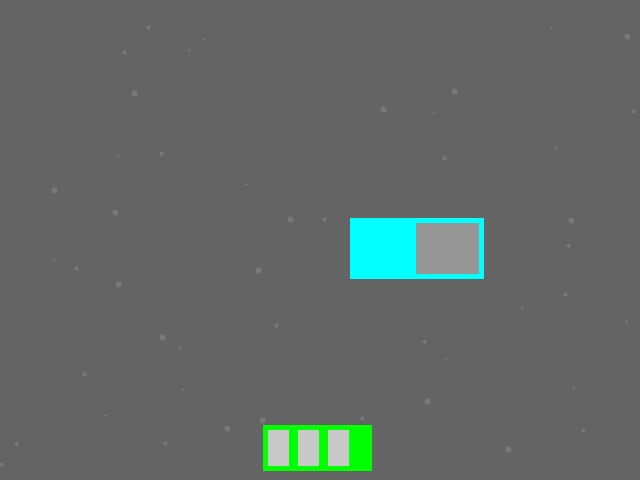bus: (263, 425, 371, 470)
truck: (350, 218, 483, 278)
